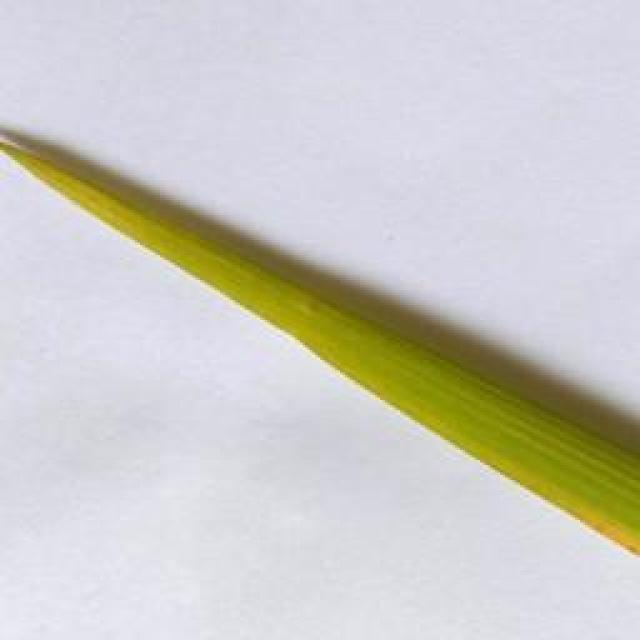Healthy-Plant: (174, 234, 640, 544)
